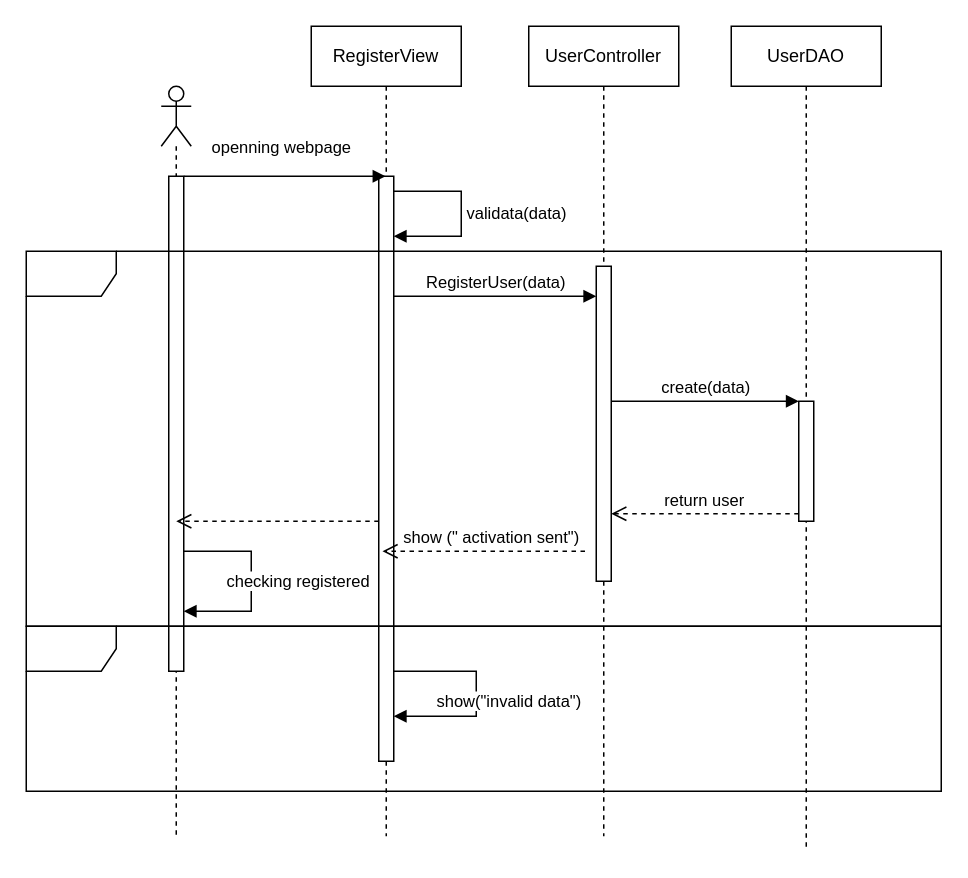
This 968x878 diagram has some shape labels left out. Here are the shapes that lost their labels. From the top down, the centre of each, then its label:
At pixel 483 438: "Data is valid".
At pixel 483 708: "Data is invalid".
